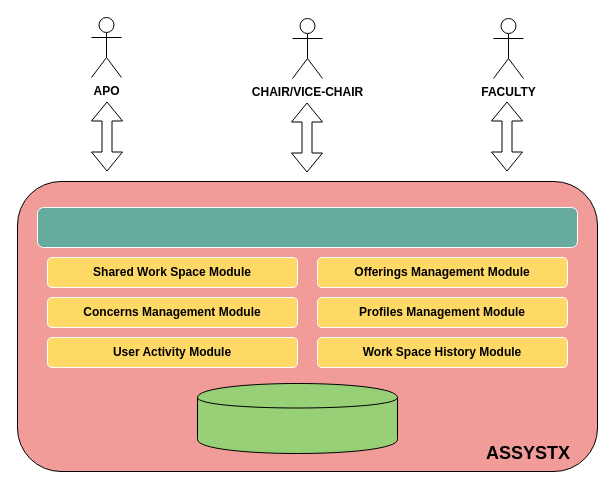
The diagram is 615 pixels wide and 489 high, and some of its shapes have lost their labels. Each missing label, with the centre of its shape:
ASSYSTX Database: point 297,418
ASSYSTX User Interface: point 307,227
